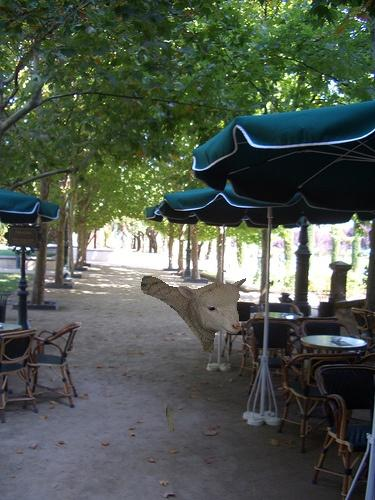tampered: (142, 277, 246, 431)
